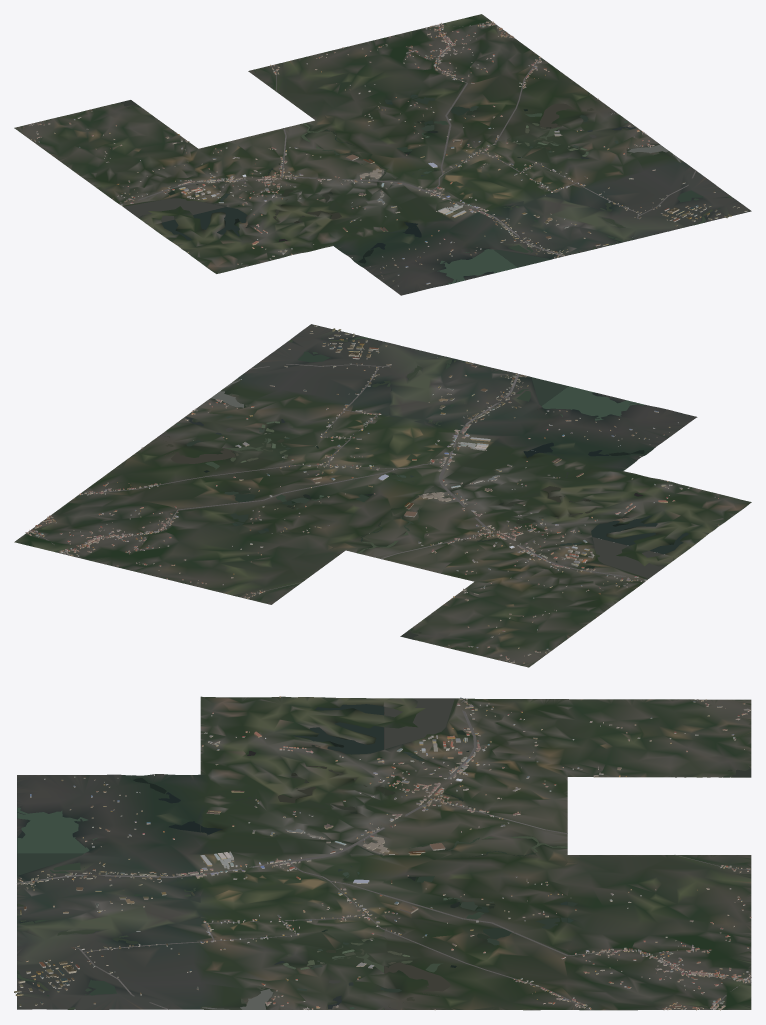
3 renders of one model, top to bottom at view 1: azimuth 30°, elevation 25°; view 2: azimuth 150°, elevation 25°; view 3: azimuth 270°, elevation 25°, orthographic. The views are drawn at different scales.
Visible parts, largest first — view 1: ground, water, buildings, roads; view 2: ground, water, buildings, roads; view 3: ground, water, buildings, roads.
Boxes of the visible parts, left/top/right/bottom form: ground: left=14, top=14, right=751, bottom=295; water: left=113, top=26, right=732, bottom=284; buildings: left=23, top=21, right=747, bottom=286; roads: left=119, top=24, right=696, bottom=256; ground: left=14, top=324, right=751, bottom=667; water: left=35, top=337, right=688, bottom=640; buildings: left=25, top=325, right=719, bottom=663; roads: left=31, top=364, right=644, bottom=598; ground: left=17, top=696, right=751, bottom=1010; water: left=17, top=698, right=751, bottom=1009; buildings: left=14, top=696, right=751, bottom=1010; roads: left=17, top=698, right=751, bottom=1009.
Size of the model in its own units: 5621 by 48.85 by 5636.
